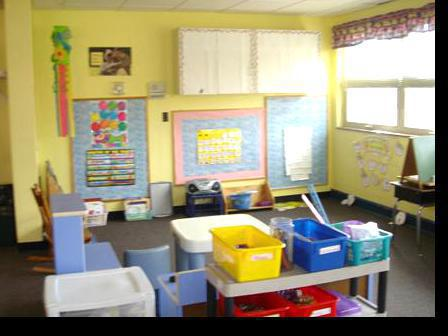Otro Obstaculo: (182, 179, 228, 215), (222, 184, 277, 212), (125, 199, 152, 222), (89, 199, 110, 226)
